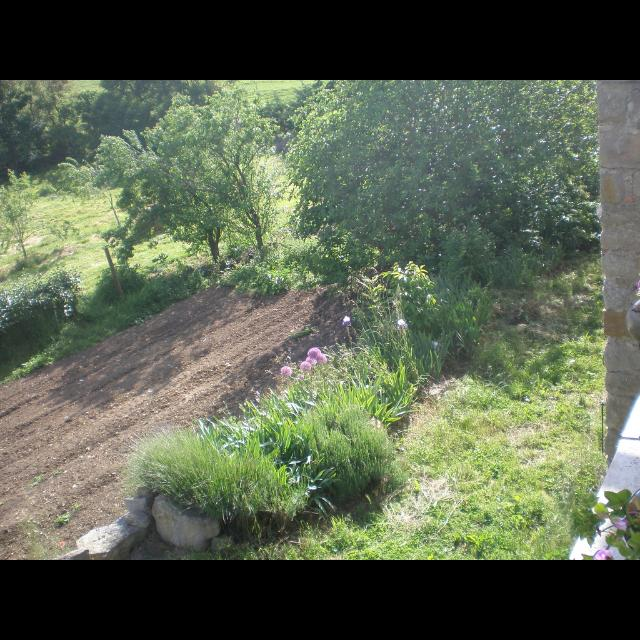Flower: (279, 348, 329, 380), (341, 314, 353, 328)
